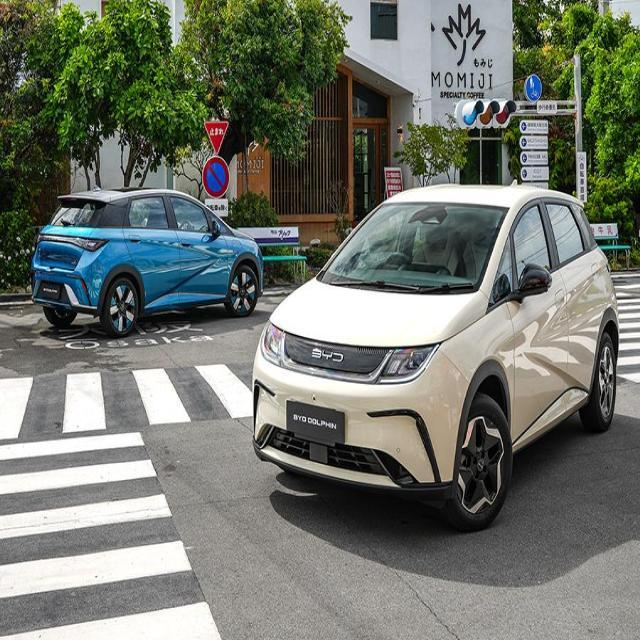Hatchback: (252, 185, 622, 533), (31, 190, 265, 338)
